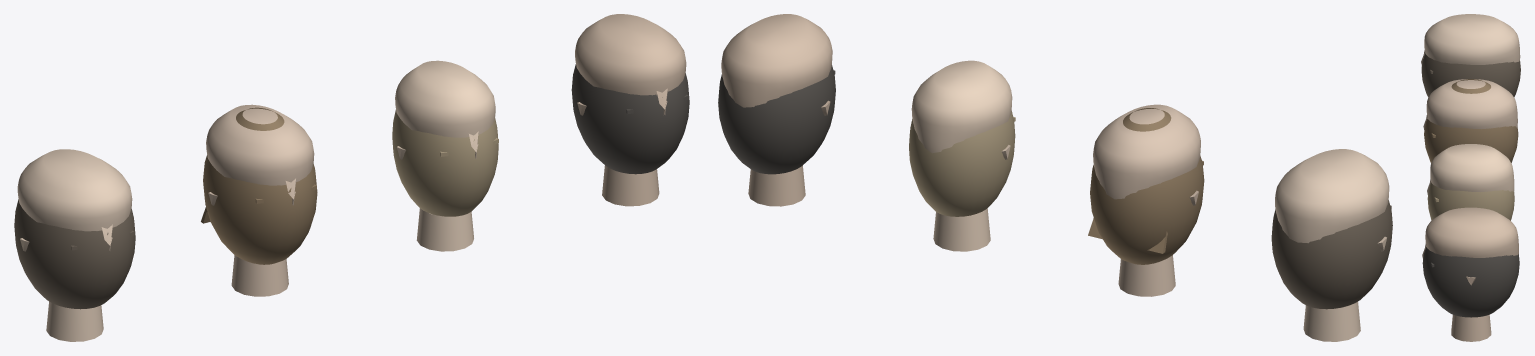
File: tls_chr_024_heads_youth_v001.fbx
3 views of the same model, side by side, from view 1: azimuth 30°, elevation 25°; view 2: azimuth 150°, elevation 25°; view 3: azimuth 270°, elevation 25° (orthographic). The views are drawn at different scales.
Visible parts, largest first — view 1: Head_Y1, Head_Y4, Head_Y2, Head_Y3; view 2: Head_Y1, Head_Y4, Head_Y2, Head_Y3; view 3: Head_Y4, Head_Y1, Head_Y2, Head_Y3.
Part boxes in pixels (box(x1,y1,x2,y2)): Head_Y1: box(14, 149, 135, 341); Head_Y4: box(571, 14, 689, 206); Head_Y2: box(201, 104, 317, 296); Head_Y3: box(392, 60, 498, 251); Head_Y1: box(1271, 149, 1392, 341); Head_Y4: box(718, 14, 835, 206); Head_Y2: box(1088, 104, 1204, 296); Head_Y3: box(909, 60, 1015, 251); Head_Y4: box(1422, 207, 1519, 341); Head_Y1: box(1421, 14, 1520, 97); Head_Y2: box(1423, 79, 1518, 163); Head_Y3: box(1427, 144, 1514, 220).
Size of the model in its own units: 0.9256 by 0.1704 by 0.2264.
